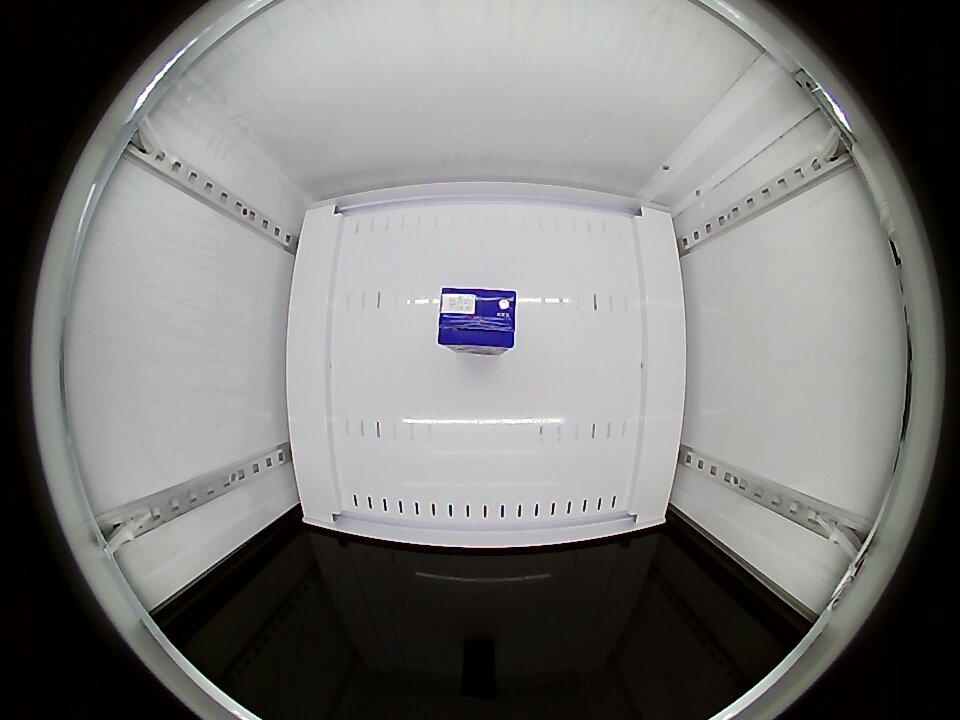bingqilinniunai: (437, 289, 518, 354)
